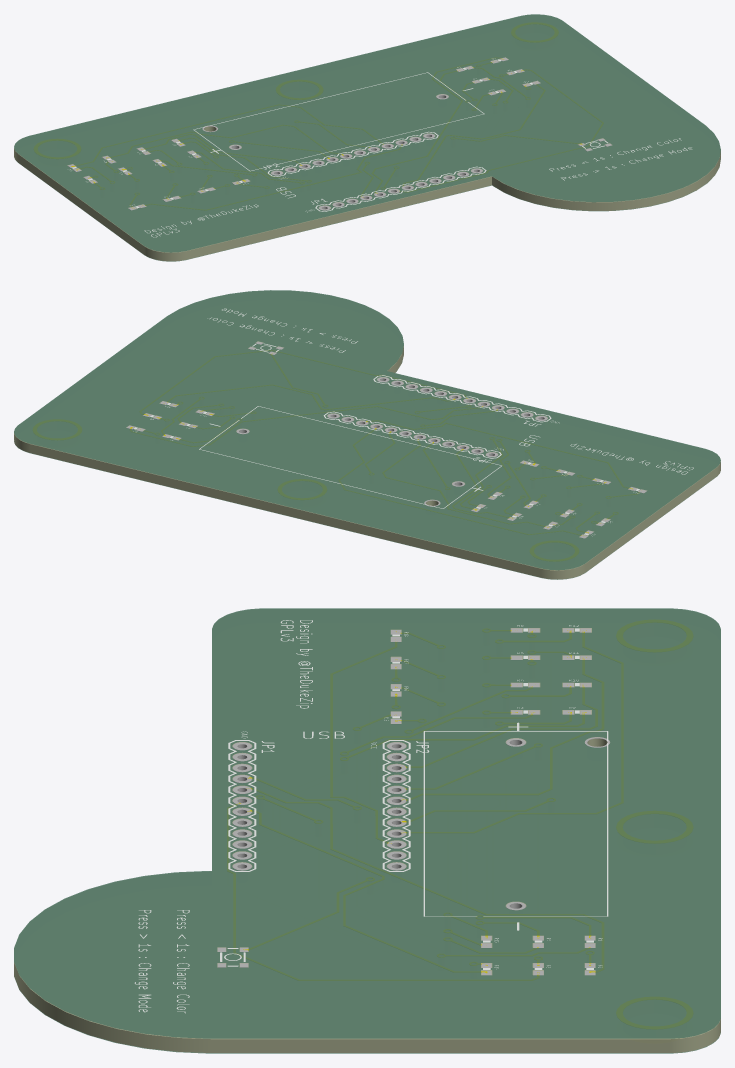
Rendered from samurai-ctf-badge.glb.
The picture shows the model from 3 angles, top to bottom: view 1: azimuth 30°, elevation 25°; view 2: azimuth 150°, elevation 25°; view 3: azimuth 270°, elevation 25°; orthographic projection. The views are drawn at different scales.
Visible parts, largest first — view 1: =>[0:1:1:7], =>[0:1:1:9], =>[0:1:1:2], =>[0:1:1:5]; view 2: =>[0:1:1:7], =>[0:1:1:9], =>[0:1:1:2], =>[0:1:1:5]; view 3: =>[0:1:1:7], =>[0:1:1:9], =>[0:1:1:2], =>[0:1:1:5].
Part boxes in pixels (x1,y1,x2,y2): =>[0:1:1:7]: (14,14,720,261); =>[0:1:1:9]: (14,15,720,261); =>[0:1:1:2]: (34,23,611,210); =>[0:1:1:5]: (70,58,692,237); =>[0:1:1:7]: (14,290,720,579); =>[0:1:1:9]: (14,291,720,579); =>[0:1:1:2]: (33,341,646,560); =>[0:1:1:5]: (133,308,693,536); =>[0:1:1:7]: (14,608,720,1053); =>[0:1:1:9]: (14,609,720,1052); =>[0:1:1:2]: (217,620,692,1028); =>[0:1:1:5]: (134,620,608,1013).
Size of the model in its own units: 0.1 by 0.00166 by 0.0694.
4 materials, 4 textured.
